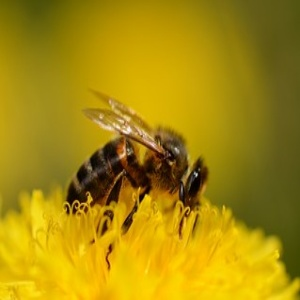bee: (63, 83, 211, 273)
